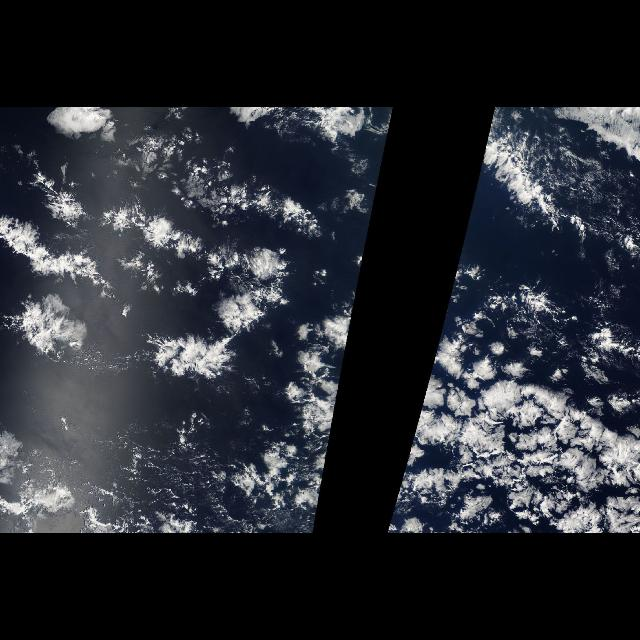Flower: (1, 109, 356, 529), (385, 306, 637, 530)
